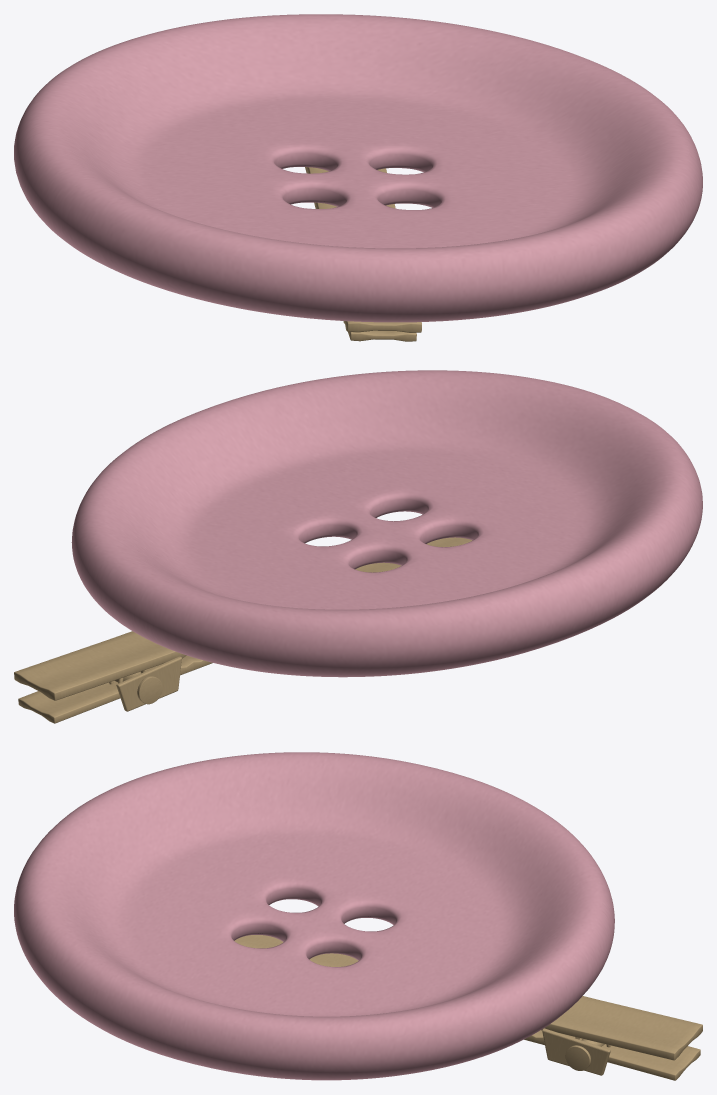
The model's file is HairClip_Matte.glb.
3 views of the same model, one above another, from view 1: azimuth 30°, elevation 25°; view 2: azimuth 150°, elevation 25°; view 3: azimuth 270°, elevation 25° (orthographic). The views are drawn at different scales.
Parts seen in each view (by area): view 1: HairClip_Matte__Pink_Four_Hole_Button, HairClip_Matte__Fixed_Serrated_Jaw, HairClip_Matte__Moving_Jaw_Static_Pose; view 2: HairClip_Matte__Pink_Four_Hole_Button, HairClip_Matte__Fixed_Serrated_Jaw, HairClip_Matte__Moving_Jaw_Static_Pose, HairClip_Matte__Pivot_Cheek_L, HairClip_Matte__Pivot_Head_L; view 3: HairClip_Matte__Pink_Four_Hole_Button, HairClip_Matte__Fixed_Serrated_Jaw, HairClip_Matte__Moving_Jaw_Static_Pose, HairClip_Matte__Pivot_Cheek_R, HairClip_Matte__Pivot_Head_R.
Part boxes in pixels (x1,y1,x2,y2): HairClip_Matte__Pink_Four_Hole_Button: (14,14,702,322); HairClip_Matte__Fixed_Serrated_Jaw: (305,167,421,332); HairClip_Matte__Moving_Jaw_Static_Pose: (305,167,416,341); HairClip_Matte__Pink_Four_Hole_Button: (71,370,702,677); HairClip_Matte__Fixed_Serrated_Jaw: (14,537,472,700); HairClip_Matte__Moving_Jaw_Static_Pose: (18,655,212,723); HairClip_Matte__Pivot_Cheek_L: (116,656,181,711); HairClip_Matte__Pivot_Head_L: (137,676,162,704); HairClip_Matte__Pink_Four_Hole_Button: (14,752,614,1080); HairClip_Matte__Fixed_Serrated_Jaw: (234,935,702,1060); HairClip_Matte__Moving_Jaw_Static_Pose: (524,1030,700,1080); HairClip_Matte__Pivot_Cheek_R: (542,1028,610,1075); HairClip_Matte__Pivot_Head_R: (565,1045,590,1070).
Bounding box in the file's own units: 39.81 × 9.77 × 45.73.
Materials: 2 (2 with a texture image).
